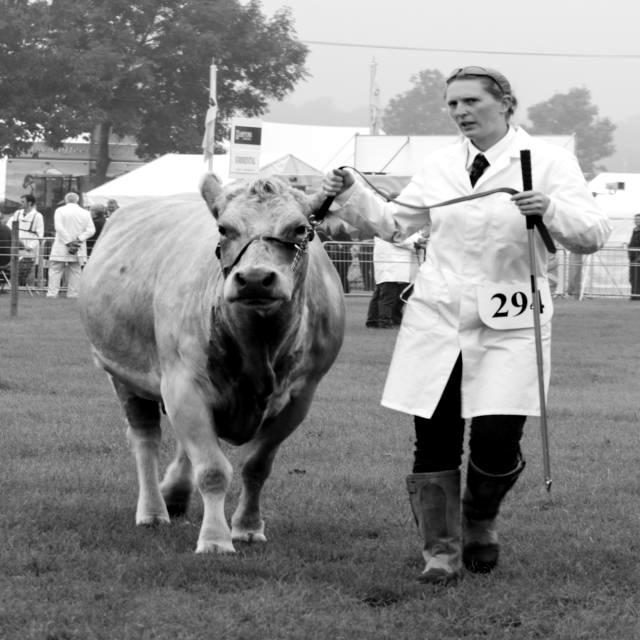COW: (79, 174, 346, 552)
